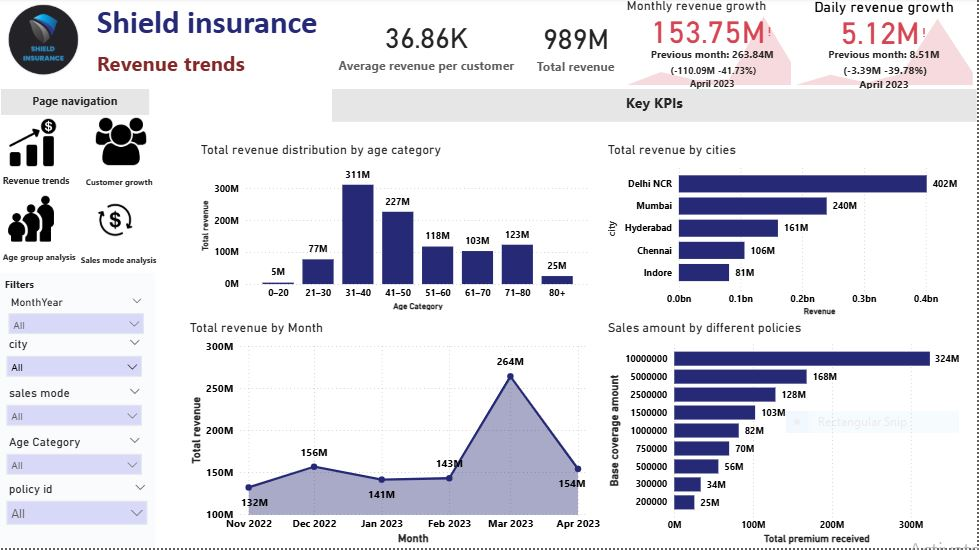

The page's visual inventory and layout, read from the dashboard file:
{"tool":"powerbi","page":{"name":"revenue trends","canvas":[1280,720],"ordinal":0},"visuals":[{"type":"shape","box":[0,360,204.5,360],"z":0},{"type":"lineChart","title":"Total revenue by  Month","fields":{"Y":["dim_customer.Total revenue"],"Category":["fact_premiums.Month.Variation.Date Hierarchy.Year","fact_premiums.Month.Variation.Date Hierarchy.Month"]},"box":[244.8,421.9,547.2,298.1],"z":1000},{"type":"card","fields":{"Values":["dim_customer.Total revenue"]},"box":[681,0,148.2,123],"z":2000},{"type":"card","fields":{"Values":["dim_customer.Average revenue per customer"]},"box":[436.7,0,244.3,119.8],"z":3000},{"type":"barChart","title":"Total revenue by cities","fields":{"Y":["Sum(fact_premiums.final_premium_amt(INR))"],"Category":["dim_customer.city"]},"box":[792.5,188.8,487.5,232.5],"z":4000},{"type":"barChart","title":"Sales amount by different policies","fields":{"Y":["Sum(fact_premiums.final_premium_amt(INR))"],"Category":["dim_policies.base_coverage_amt(INR)"]},"box":[792.5,421.2,487.5,298.8],"z":5000},{"type":"slicer","fields":{"Values":["dim_customer.city"]},"box":[0,439.2,197.3,63.4],"z":6000},{"type":"image","box":[0,152.6,87.8,72],"z":7000},{"type":"image","box":[122.2,152.2,75.6,72.2],"z":8000},{"type":"textbox","box":[108.8,225,107.5,28.8],"z":9000},{"type":"image","box":[2.5,0,111.2,108.8],"z":10000},{"type":"textbox","box":[2.9,360,61.9,28.8],"z":11000},{"type":"textbox","box":[122.4,0,355.7,61.9],"z":12000},{"type":"textbox","box":[122.4,61.9,243.4,47.5],"z":13000},{"type":"textbox","box":[0,224.4,122.2,28.9],"z":14000},{"type":"textbox","box":[436.2,118.8,843.8,42.5],"z":15000},{"type":"textbox","box":[2.5,118.8,193.8,33.8],"z":16000},{"type":"slicer","fields":{"Values":["fact_premiums.sales_mode"]},"box":[0,502.6,197.3,64.8],"z":17000},{"type":"slicer","fields":{"Values":["dim_customer.Age Category"]},"box":[0,567.4,197.3,60.5],"z":18000},{"type":"slicer","fields":{"Values":["dim_policies.policy_id"]},"box":[0,627.8,204.5,67.7],"z":19000},{"type":"slicer","fields":{"Values":["DateTable.MonthYear"]},"box":[2.9,384.5,197.3,54.7],"z":20000},{"type":"kpi","title":"Monthly revenue growth","fields":{"Indicator":["dim_customer.Last Month Revenue"],"Goal":["dim_customer.Previous Month Revenue"],"TrendLine":["DateTable.MonthYear"]},"box":[816.2,0,233.8,118.8],"z":21000},{"type":"columnChart","title":"Total revenue distribution by age category","fields":{"Category":["dim_customer.Age Category"],"Y":["Sum(fact_premiums.final_premium_amt(INR))"]},"box":[258.8,188.8,518.8,225],"z":22000},{"type":"image","box":[3.3,253.3,75.6,70],"z":23000},{"type":"image","box":[108.8,253.8,87.5,72.5],"z":24000},{"type":"textbox","box":[0,323.3,113.3,31.1],"z":25000},{"type":"textbox","box":[102.2,326.7,122.2,31.1],"z":26000},{"type":"kpi","title":"Daily revenue growth","fields":{"Goal":["dim_customer.DRG prev month"],"Indicator":["dim_customer.DRG Total"],"TrendLine":["fact_premiums.Month"]},"box":[1036.8,0,243.5,119.1],"z":27000}]}

Visuals, with their boxes in screenshot pixels (x1, y1, x2, y2), scaled from the page's 1280x720 canvas onto the 979x550 screenshot:
shape: x1=0 y1=275 x2=156 y2=549
"Total revenue by  Month" lineChart: x1=187 y1=322 x2=606 y2=549
card - dim_customer.Total revenue: x1=521 y1=0 x2=634 y2=94
card - dim_customer.Average revenue per customer: x1=334 y1=0 x2=521 y2=92
"Total revenue by cities" barChart: x1=606 y1=144 x2=978 y2=322
"Sales amount by different policies" barChart: x1=606 y1=322 x2=978 y2=549
slicer - dim_customer.city: x1=0 y1=335 x2=151 y2=384
image: x1=0 y1=117 x2=67 y2=172
image: x1=93 y1=116 x2=151 y2=171
textbox: x1=83 y1=172 x2=165 y2=194
image: x1=2 y1=0 x2=87 y2=83
textbox: x1=2 y1=275 x2=50 y2=297
textbox: x1=94 y1=0 x2=366 y2=47
textbox: x1=94 y1=47 x2=280 y2=84
textbox: x1=0 y1=171 x2=93 y2=193
textbox: x1=334 y1=91 x2=978 y2=123
textbox: x1=2 y1=91 x2=150 y2=117
slicer - fact_premiums.sales_mode: x1=0 y1=384 x2=151 y2=433
slicer - dim_customer.Age Category: x1=0 y1=433 x2=151 y2=480
slicer - dim_policies.policy_id: x1=0 y1=480 x2=156 y2=531
slicer - DateTable.MonthYear: x1=2 y1=294 x2=153 y2=335
"Monthly revenue growth" kpi: x1=624 y1=0 x2=803 y2=91
"Total revenue distribution by age category" columnChart: x1=198 y1=144 x2=595 y2=316
image: x1=3 y1=193 x2=60 y2=247
image: x1=83 y1=194 x2=150 y2=249
textbox: x1=0 y1=247 x2=87 y2=271
textbox: x1=78 y1=250 x2=172 y2=273
"Daily revenue growth" kpi: x1=793 y1=0 x2=978 y2=91
